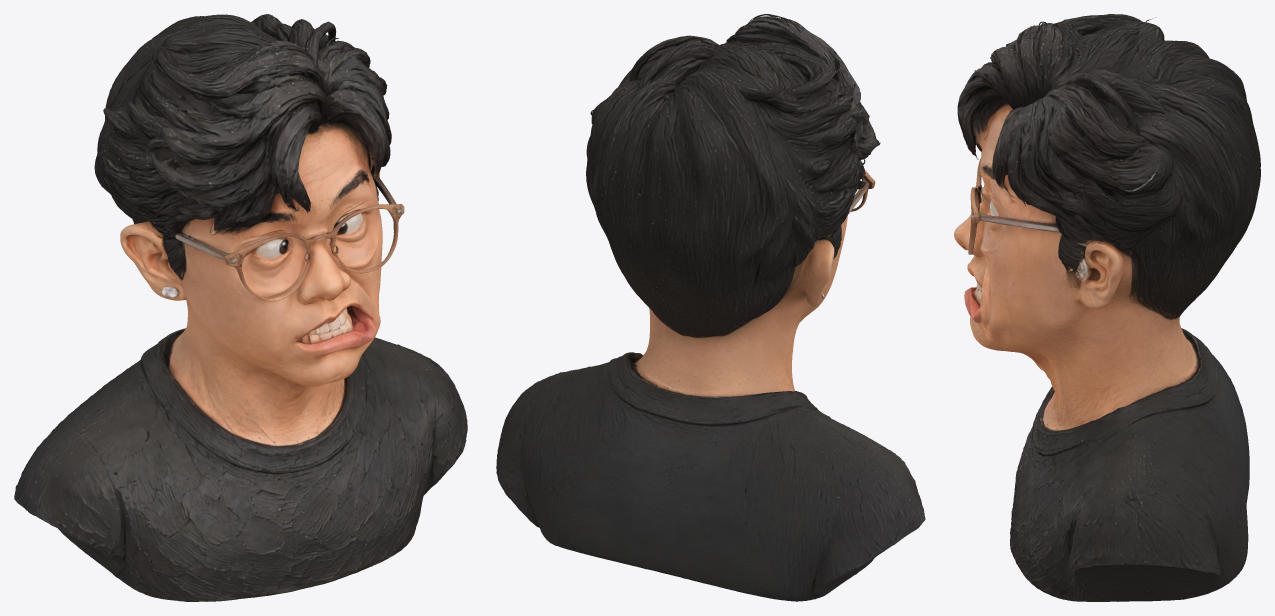
File: avatar.glb
The picture shows the model from 3 angles, left to right: view 1: azimuth 30°, elevation 25°; view 2: azimuth 150°, elevation 25°; view 3: azimuth 270°, elevation 25°; orthographic projection. The views are drawn at different scales.
Visible parts, largest first — view 1: model; view 2: model; view 3: model.
Boxes of the visible parts, x1=… form: model: x1=14, y1=14, x2=467, y2=601; model: x1=496, y1=14, x2=925, y2=601; model: x1=954, y1=14, x2=1260, y2=601.
Bounding box in the file's own units: 1.61 × 1.9 × 1.04.
1 material, 1 textured.
